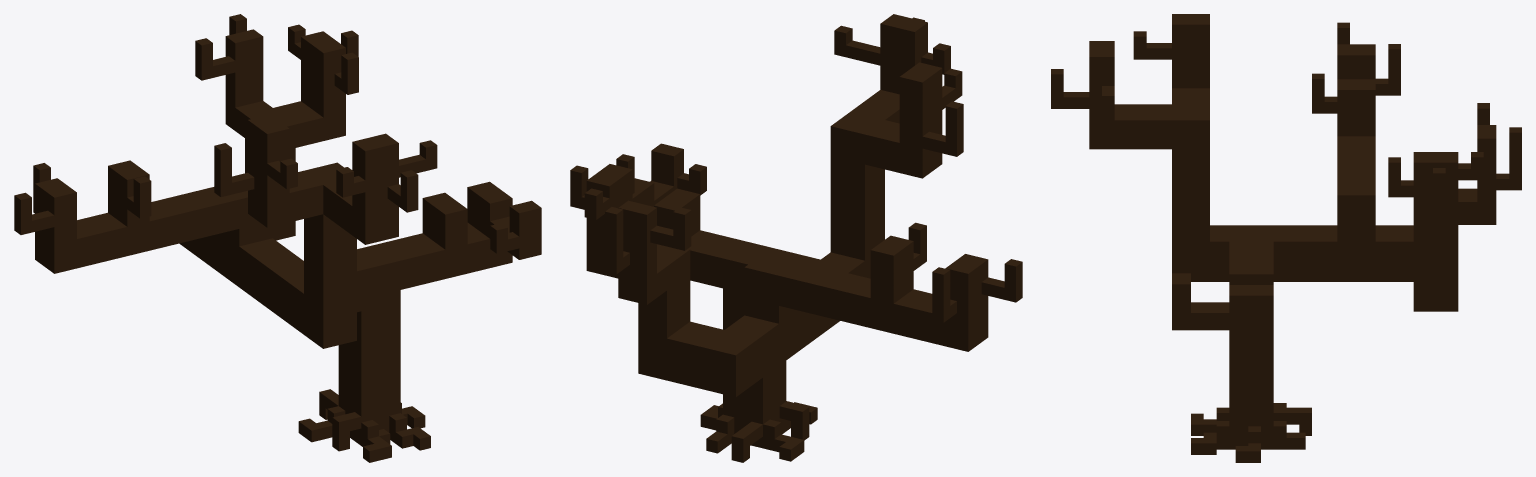
The model's file is tree_oak_01-4.obj.
The picture shows the model from 3 angles, left to right: view 1: azimuth 30°, elevation 25°; view 2: azimuth 150°, elevation 25°; view 3: azimuth 270°, elevation 25°; orthographic projection. The views are drawn at different scales.
Size of the model in its own units: 7.8 by 6.2 by 7.4.
Materials: 1 (1 with a texture image).
